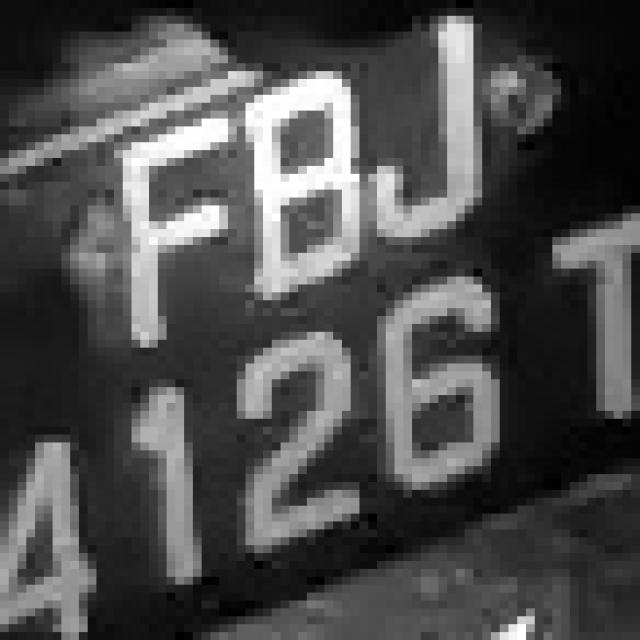1: (132, 356, 210, 608)
2: (219, 324, 377, 553)
4: (0, 5, 2, 8)
6: (368, 269, 509, 490)
B: (219, 63, 360, 308)
F: (105, 87, 237, 363)
J: (350, 8, 500, 237)
T: (518, 206, 622, 466)
